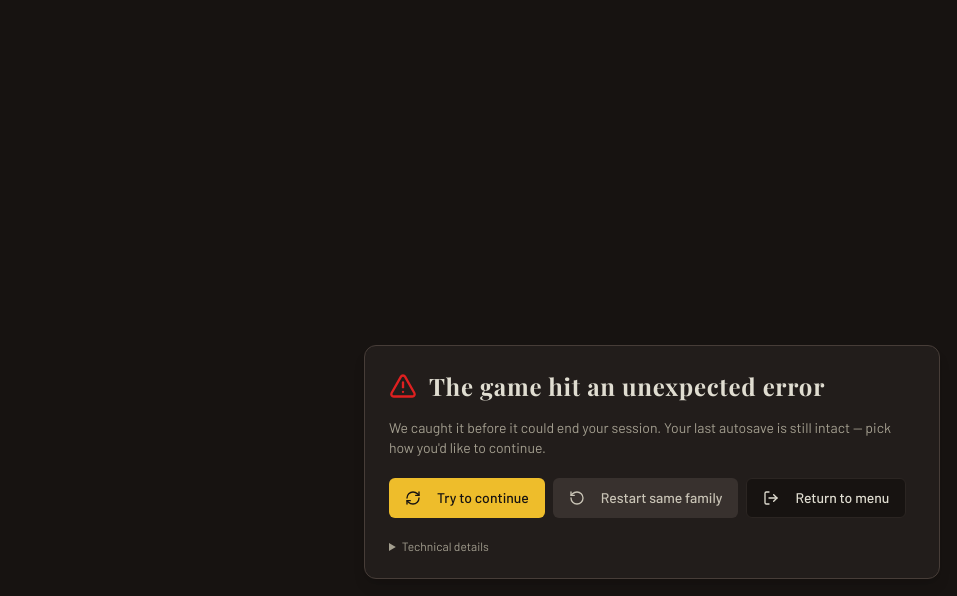
Test: GameErrorBoundary › "Try to continue" resets and re-renders the child
This screenshot has width=957, height=596.
Expected: the heading "The game hit an unexpected error" is shown, [429,370,825,402]
Click the button "Try to continue": (467, 498) [389,478,545,518]
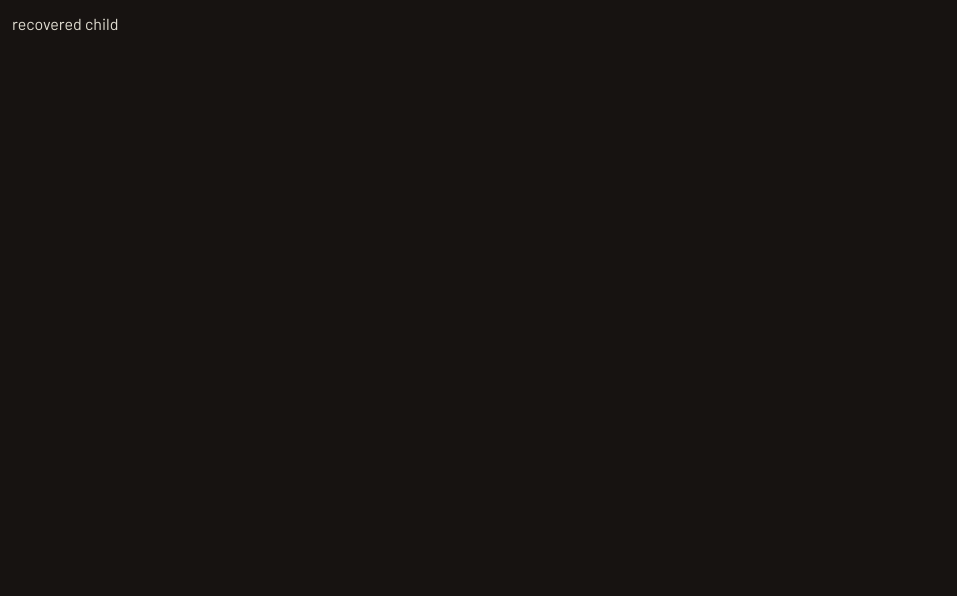
Expected: the text "recovered child" is shown, [12,14,118,33]
